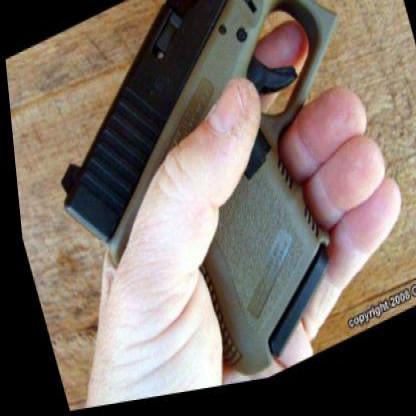pistol: (10, 0, 415, 415)
